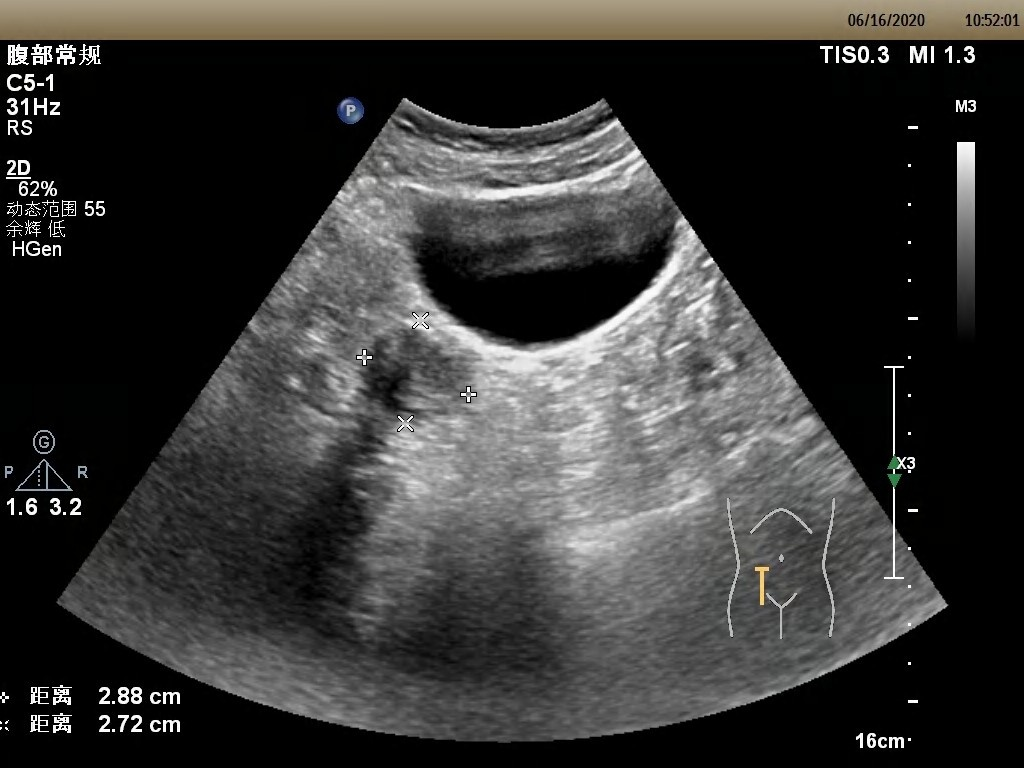肌瘤: (366, 323, 468, 420)
